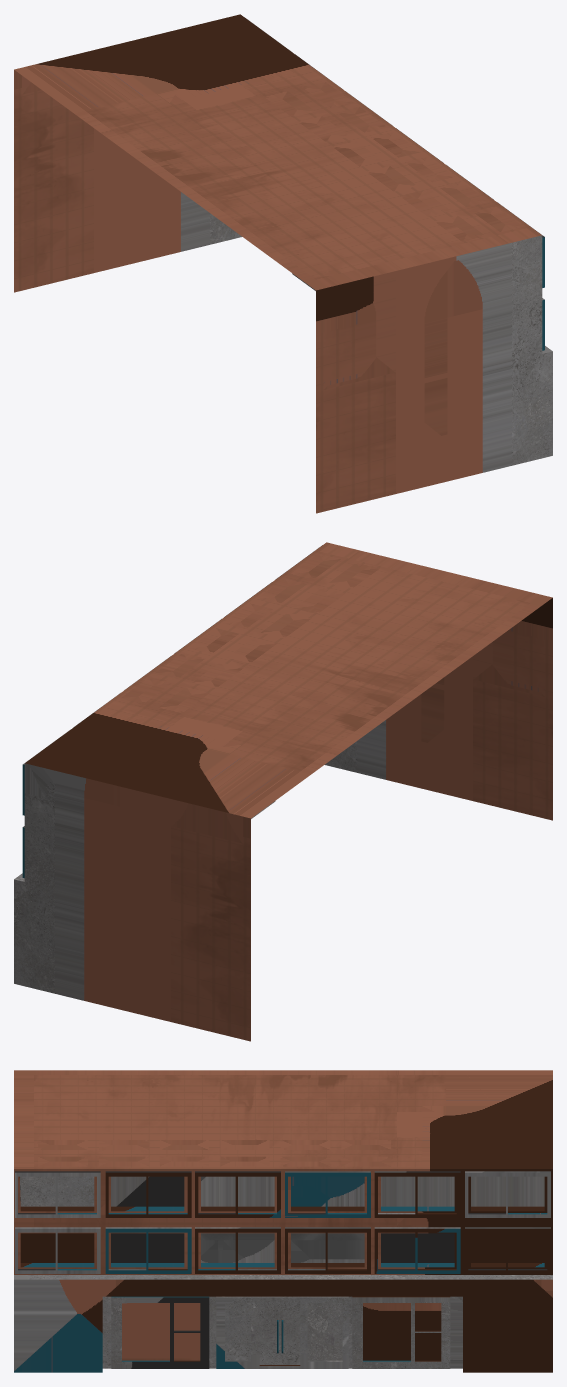
The model's file is Bat_Joliette_1.2.fbx.
The picture shows the model from 3 angles, top to bottom: view 1: azimuth 30°, elevation 25°; view 2: azimuth 150°, elevation 25°; view 3: azimuth 270°, elevation 25°; orthographic projection. The views are drawn at different scales.
Parts seen in each view (by area): view 1: Bat_Joliette_1.2; view 2: Bat_Joliette_1.2; view 3: Bat_Joliette_1.2.
Part boxes in pixels (x1,y1,x2,y2): Bat_Joliette_1.2: [14, 14, 552, 513]; Bat_Joliette_1.2: [14, 542, 552, 1041]; Bat_Joliette_1.2: [14, 1070, 552, 1372].
Size of the model in its own units: 1205 by 1083 by 2657.
